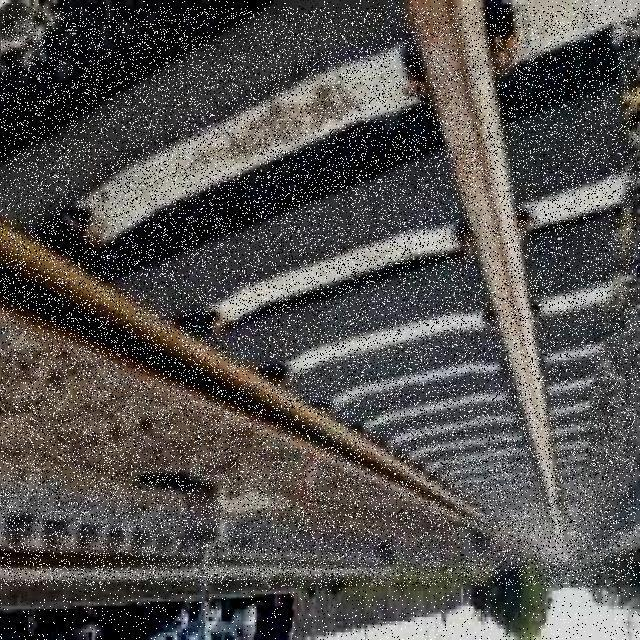rail: (1, 8, 636, 586)
